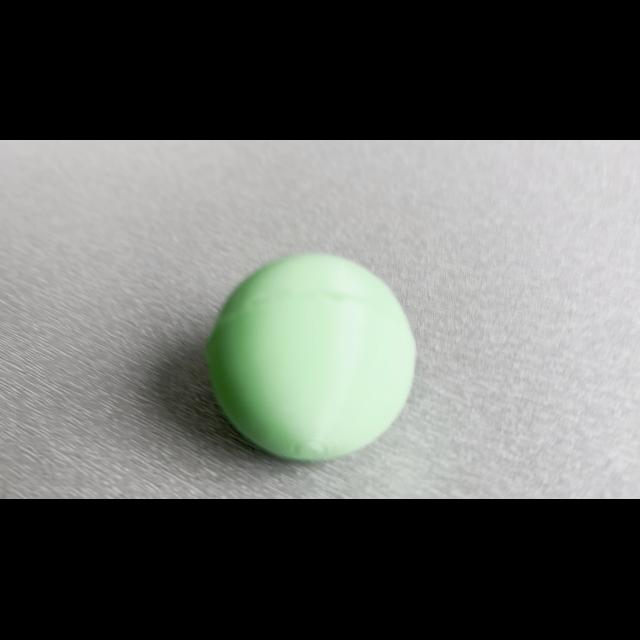objects: (190, 234, 424, 476)
